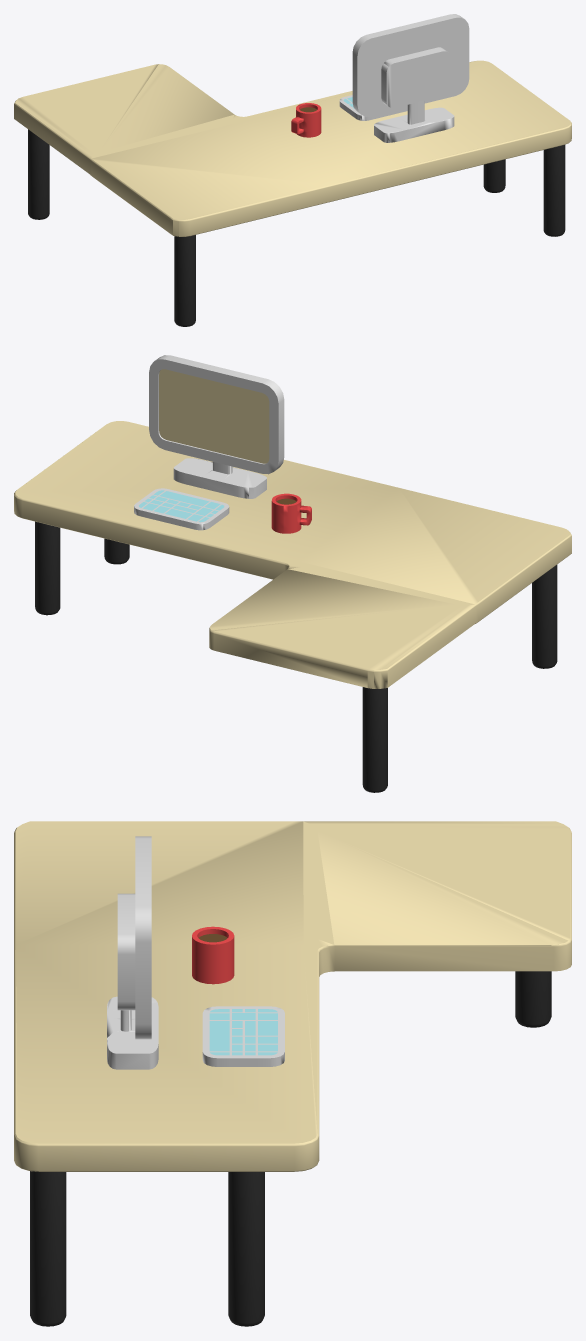
The model's file is bangongzhuo.FBX.
3 views of the same model, one above another, from view 1: azimuth 30°, elevation 25°; view 2: azimuth 150°, elevation 25°; view 3: azimuth 270°, elevation 25° (orthographic). The views are drawn at different scales.
Visible parts, largest first — view 1: bangongzhuo; view 2: bangongzhuo; view 3: bangongzhuo.
Part boxes in pixels (x1,y1,x2,y2): bangongzhuo: [14, 14, 571, 326]; bangongzhuo: [14, 355, 571, 792]; bangongzhuo: [14, 821, 571, 1326].
Size of the model in its own units: 129 by 65.53 by 93.61.
